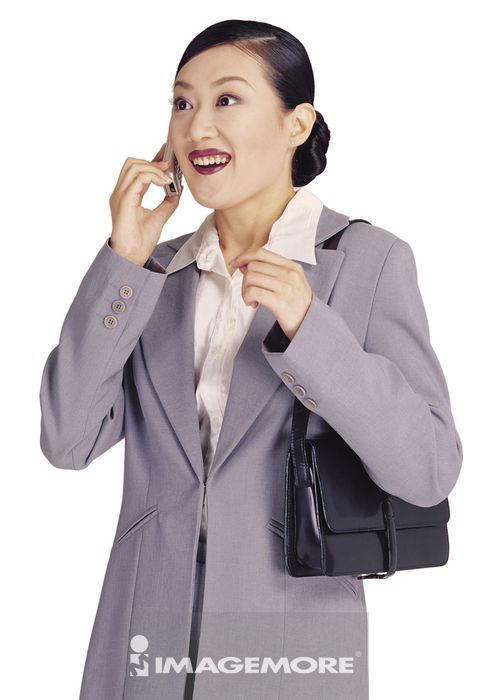talk: (110, 64, 260, 257)
